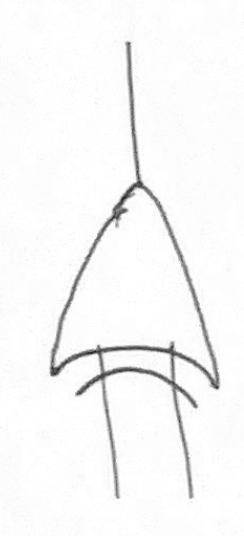XOR: (31, 155, 243, 423)
